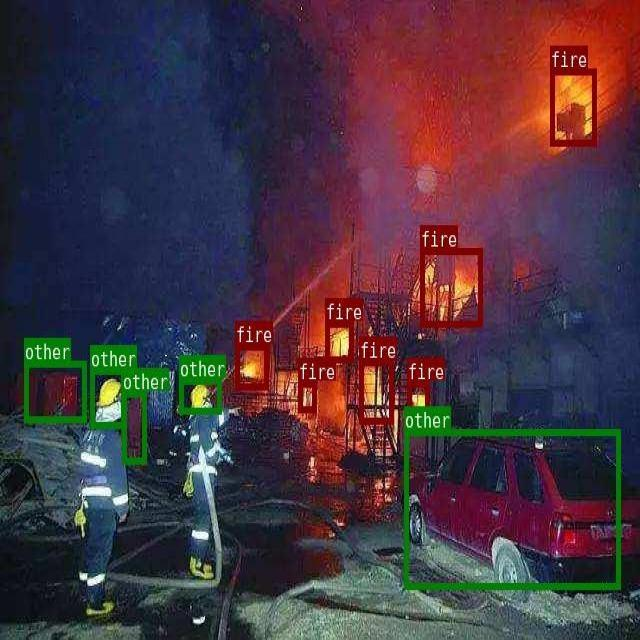fire: (419, 247, 482, 326), (550, 68, 596, 145), (359, 359, 393, 422), (235, 342, 268, 389), (325, 320, 353, 362), (407, 380, 428, 420), (298, 380, 315, 411)
